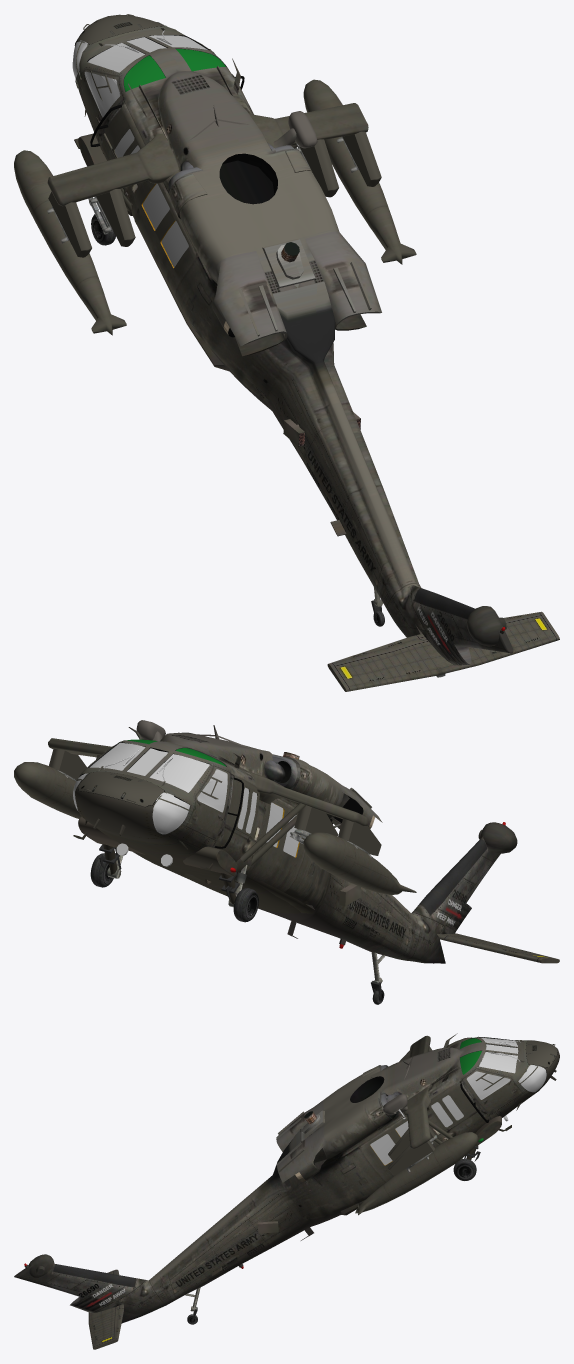
The model's file is uh60_nomotor.fbx.
3 views of the same model, one above another, from view 1: azimuth 30°, elevation 25°; view 2: azimuth 150°, elevation 25°; view 3: azimuth 270°, elevation 25° (orthographic). The views are drawn at different scales.
Parts seen in each view (by area): view 1: fuselage, elevator, Door_L, cabinDoor_L; view 2: fuselage, Door_L, cabinDoor_L, elevator, Tyre_L, tyre_R, Window_L1, Window_L2; view 3: fuselage, cabinDoor_R, elevator, Door_R, tyre_R, Window_R2, window_R1.
Boxes of the visible parts, x1=… form: fuselage: x1=14, y1=14, x2=513, y2=677; elevator: x1=327, y1=611, x2=559, y2=691; Door_L: x1=132, y1=181, x2=195, y2=294; cabinDoor_L: x1=75, y1=68, x2=124, y2=141; fuselage: x1=14, y1=720, x2=517, y2=998; Door_L: x1=245, y1=801, x2=304, y2=892; cabinDoor_L: x1=179, y1=765, x2=230, y2=847; elevator: x1=437, y1=933, x2=559, y2=963; Tyre_L: x1=233, y1=888, x2=258, y2=922; tyre_R: x1=90, y1=853, x2=113, y2=887; Window_L1: x1=243, y1=789, x2=259, y2=837; Window_L2: x1=235, y1=785, x2=251, y2=832; fuselage: x1=14, y1=1033, x2=559, y2=1323; cabinDoor_R: x1=462, y1=1068, x2=526, y2=1119; elevator: x1=88, y1=1269, x2=123, y2=1349; Door_R: x1=361, y1=1119, x2=438, y2=1181; tyre_R: x1=453, y1=1158, x2=476, y2=1180; Window_R2: x1=439, y1=1093, x2=466, y2=1122; window_R1: x1=428, y1=1100, x2=455, y2=1130.
Bounding box in the file's own units: 6.8 × 8.49 × 14.89.
